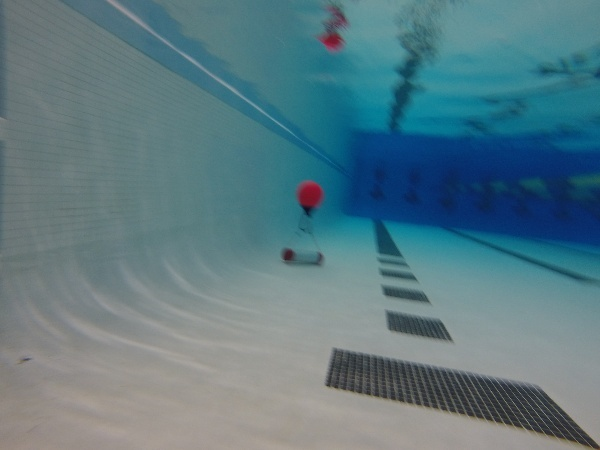buoy_red: (296, 179, 322, 216)
